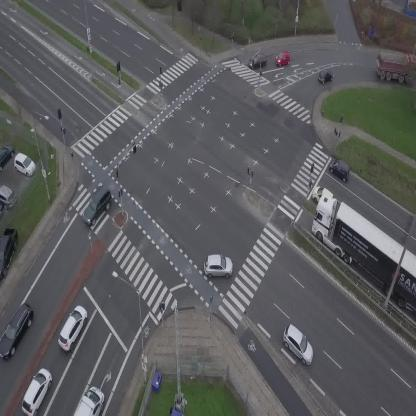car: (0, 301, 39, 362), (276, 323, 322, 368), (53, 304, 93, 354), (18, 366, 56, 416), (76, 185, 118, 228), (202, 252, 234, 280), (326, 155, 354, 182), (310, 182, 335, 203), (315, 67, 335, 86), (247, 53, 268, 70), (274, 50, 291, 67)
lorry: (73, 383, 110, 416)
